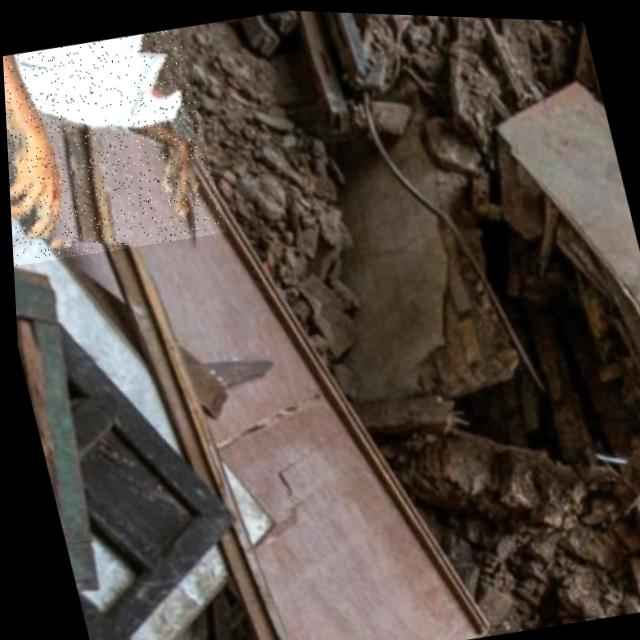Person in Rubble: (1, 22, 226, 275)
